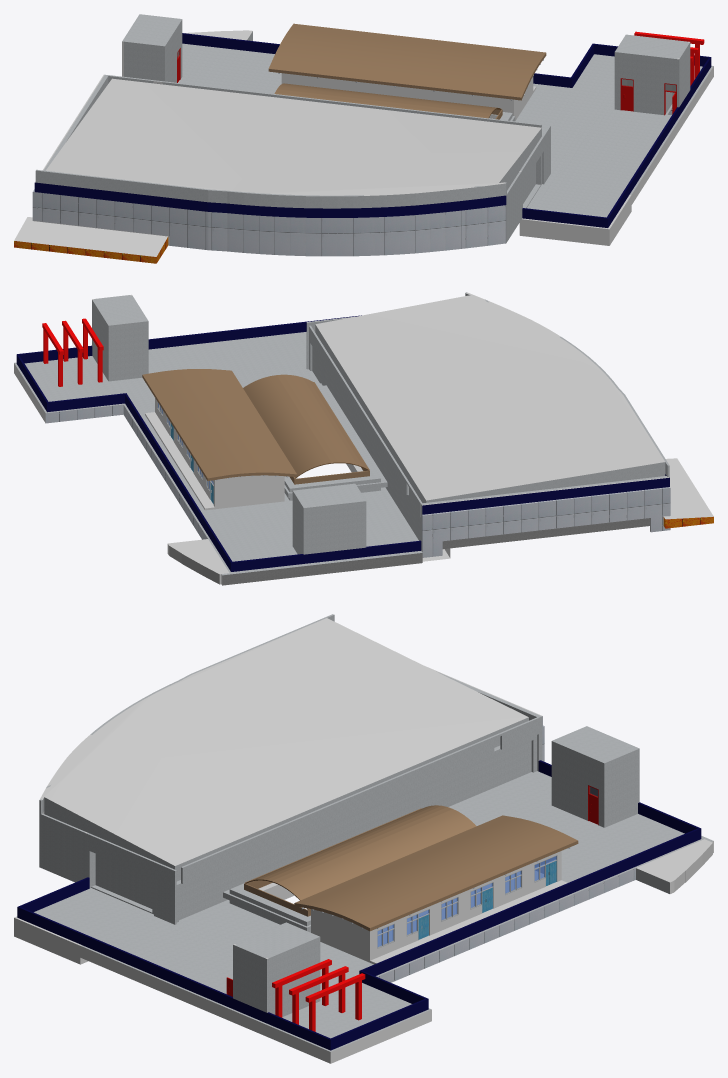
The model's file is Roof.fbx.
The picture shows the model from 3 angles, top to bottom: view 1: azimuth 30°, elevation 25°; view 2: azimuth 150°, elevation 25°; view 3: azimuth 270°, elevation 25°; orthographic projection. The views are drawn at different scales.
Visible parts, largest first — view 1: Group38, Group43, Armstrong_WoodWorks_Canopies_72___x_36__x_3_4_Hill1, Group41; view 2: Group38, Group43, Armstrong_WoodWorks_Canopies_72___x_36__x_3_4_Hill1, Group40, Group39, Group41; view 3: Group38, Group43, Armstrong_WoodWorks_Canopies_72___x_36__x_3_4_Hill1, Group41, Group40, Group39.
Boxes of the visible parts, x1,y1,x2,y2 form: Group38: (14, 14, 713, 263); Group43: (268, 23, 546, 100); Armstrong_WoodWorks_Canopies_72___x_36__x_3_4_Hill1: (274, 83, 502, 119); Group41: (634, 31, 704, 78); Group38: (14, 292, 713, 585); Group43: (142, 369, 297, 480); Armstrong_WoodWorks_Canopies_72___x_36__x_3_4_Hill1: (243, 374, 369, 484); Group40: (62, 320, 83, 384); Group39: (82, 318, 103, 382); Group41: (42, 323, 63, 386); Group38: (14, 614, 713, 1063); Group43: (294, 815, 578, 931); Armstrong_WoodWorks_Canopies_72___x_36__x_3_4_Hill1: (244, 805, 476, 916); Group41: (305, 973, 365, 1031); Group40: (289, 966, 348, 1024); Group39: (272, 959, 331, 1017).
Size of the model in its own units: 77.59 by 8.01 by 58.98.
